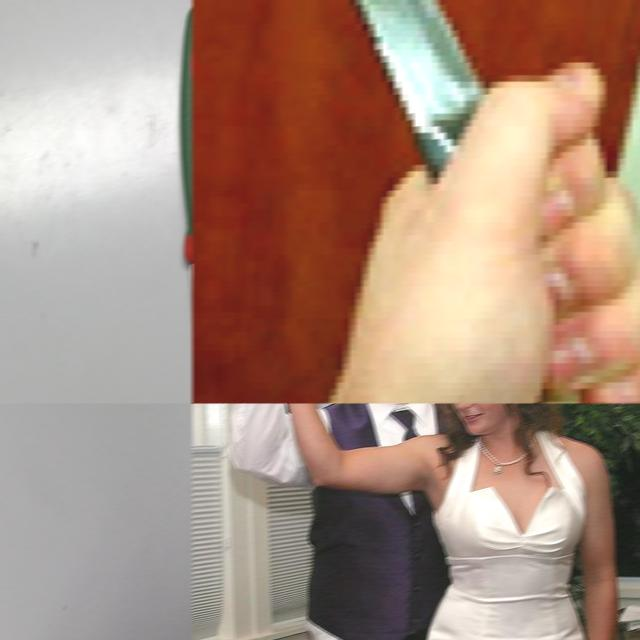Knife: (348, 0, 484, 186)
